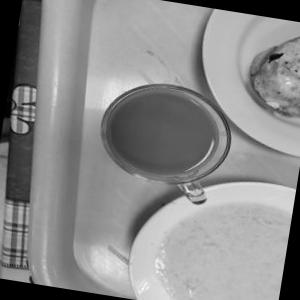coffee: (87, 72, 248, 217)
